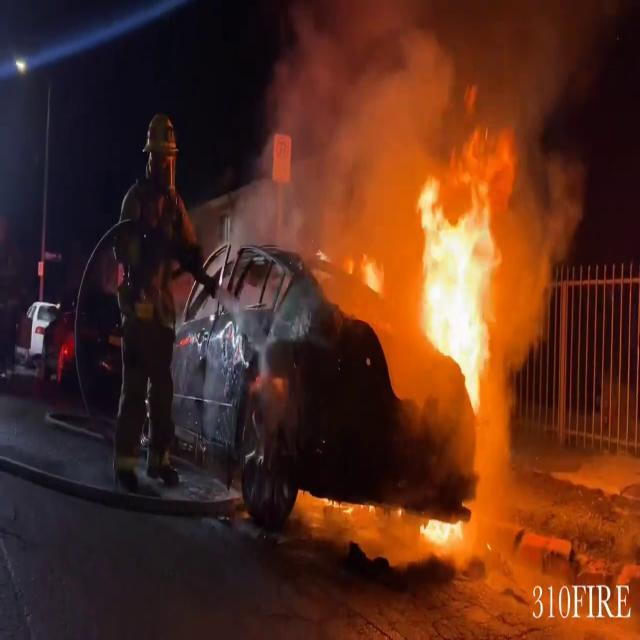Fire: (409, 182, 514, 410), (424, 512, 468, 562)
Smoke: (255, 0, 606, 236)
